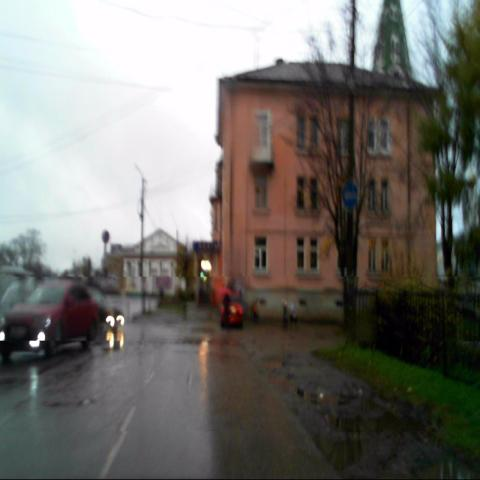4_1_2_2: (340, 179, 358, 212)
